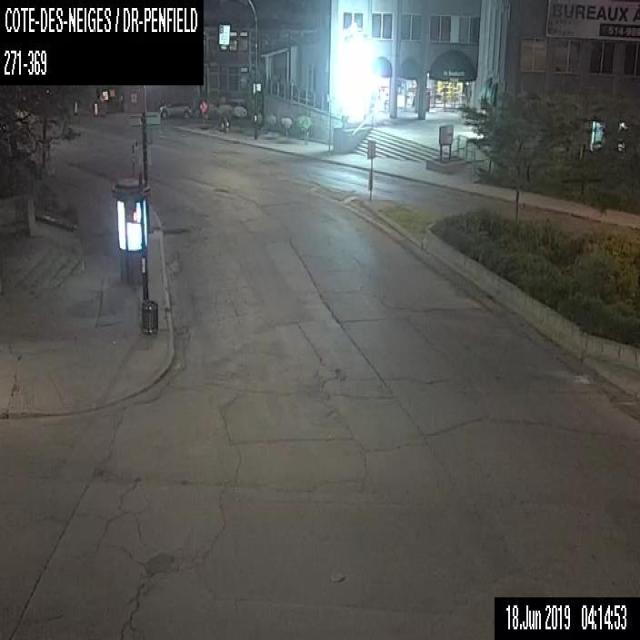vehicle: (159, 98, 191, 118)
